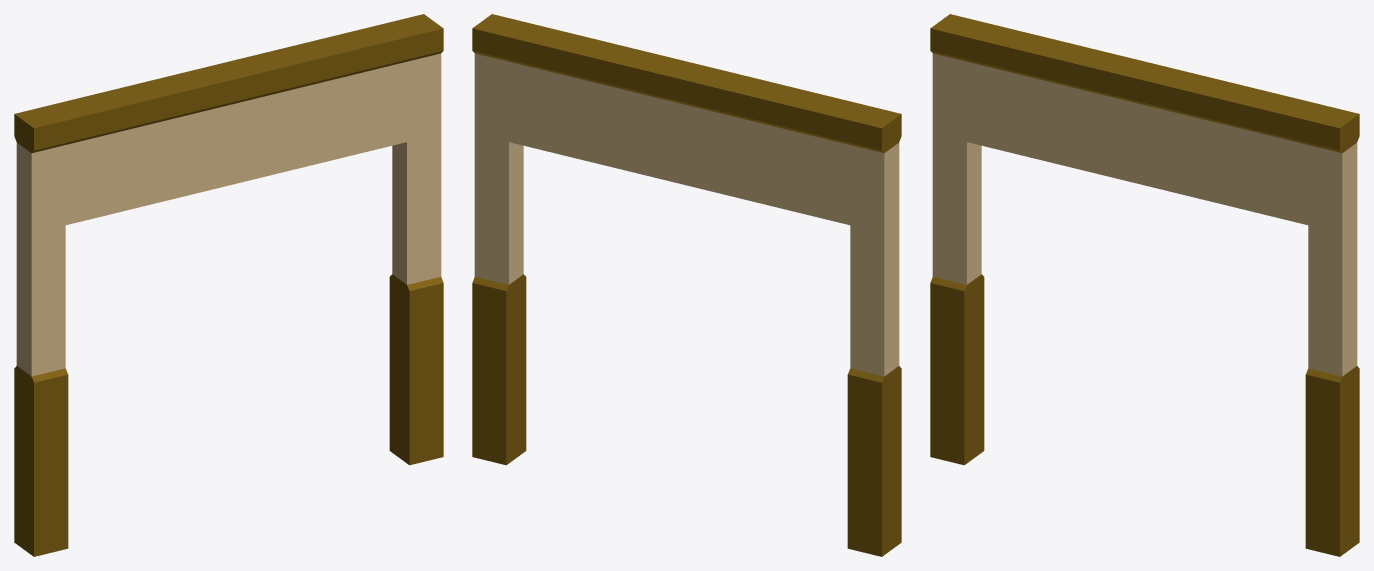
The model's file is Classic_WallDoubleDoorFrame_01_snaps001_01.fbx.
The picture shows the model from 3 angles, left to right: view 1: azimuth 30°, elevation 25°; view 2: azimuth 150°, elevation 25°; view 3: azimuth 330°, elevation 25°; orthographic projection.
Visible parts, largest first — view 1: Classic_WallDoubleDoorFrame_01_snaps001_01; view 2: Classic_WallDoubleDoorFrame_01_snaps001_01; view 3: Classic_WallDoubleDoorFrame_01_snaps001_01.
Part boxes in pixels (x1,y1,x2,y2): Classic_WallDoubleDoorFrame_01_snaps001_01: (14, 14, 443, 556); Classic_WallDoubleDoorFrame_01_snaps001_01: (472, 14, 901, 556); Classic_WallDoubleDoorFrame_01_snaps001_01: (930, 14, 1359, 556).
Bounding box in the file's own units: 300 × 300 × 25.
